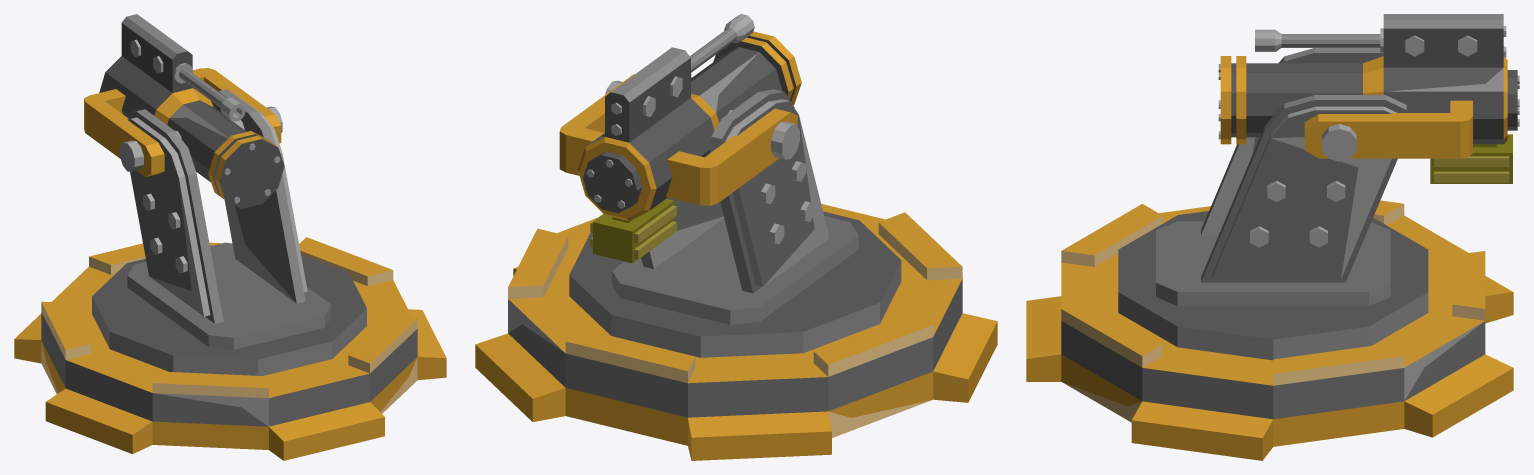
The model's file is minigunBase2.fbx.
3 views of the same model, side by side, from view 1: azimuth 30°, elevation 25°; view 2: azimuth 150°, elevation 25°; view 3: azimuth 270°, elevation 25° (orthographic). The views are drawn at different scales.
Visible parts, largest first — view 1: top_minigun_yellow_2, tower_minigun_yellow_2; view 2: top_minigun_yellow_2, tower_minigun_yellow_2; view 3: top_minigun_yellow_2, tower_minigun_yellow_2.
Boxes of the visible parts, x1,y1,x2,y2 form: top_minigun_yellow_2: (84, 14, 366, 375); tower_minigun_yellow_2: (14, 237, 446, 460); top_minigun_yellow_2: (559, 14, 901, 357); tower_minigun_yellow_2: (475, 204, 997, 460); top_minigun_yellow_2: (1118, 14, 1519, 360); tower_minigun_yellow_2: (1026, 200, 1513, 460).
Bounding box in the file's own units: 167 × 120 × 160.
